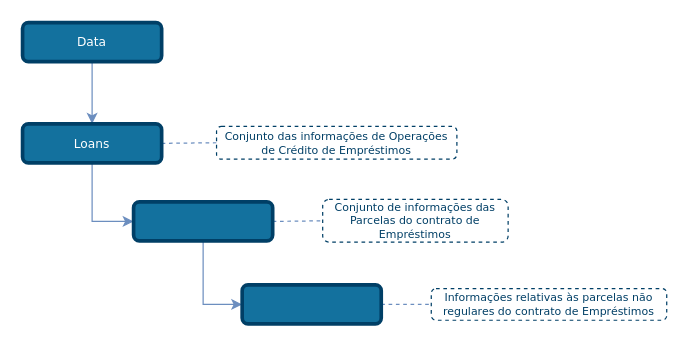
Image size: 688x346. Some labels were removed from this diagram. The box of each missing label's shape, as (x1, y1, x2, y2) in pixels:
Ballon Payment: (240, 282, 382, 325)
Instalments: (131, 199, 274, 242)
